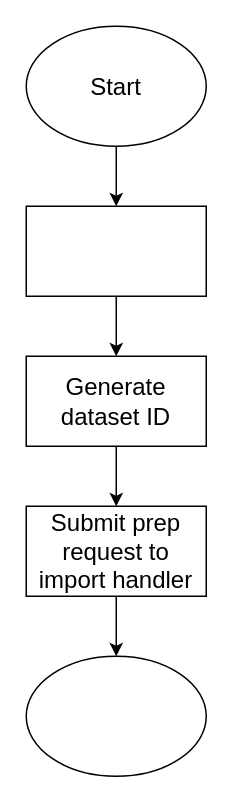
This 233x803 diagram has some shape labels left out. The shapes that lost their labels are listed below. From the top down, each one's box as (x1, y1, x2, y2) in pixels, then its label:
(25, 205, 206, 296): Validate request body
(25, 655, 206, 776): Done
